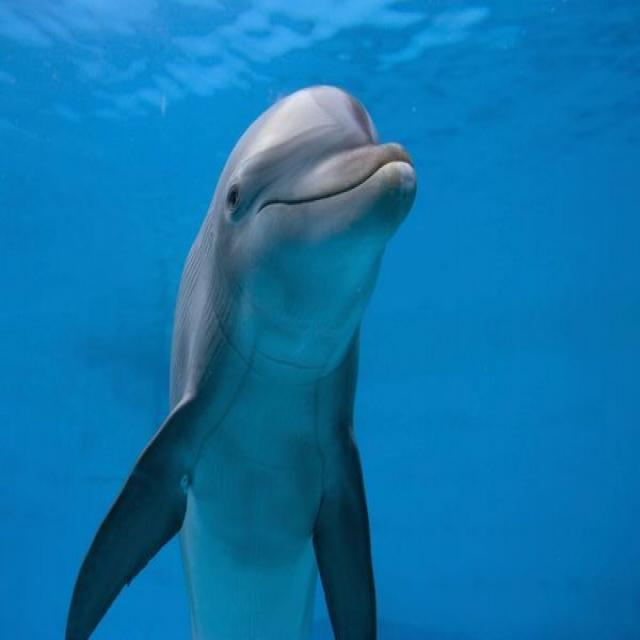dolphin: (50, 35, 473, 640)
